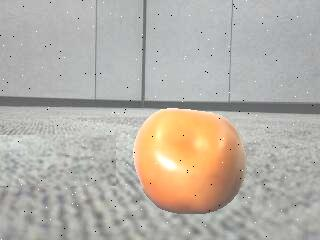Potato: (132, 106, 248, 215)
